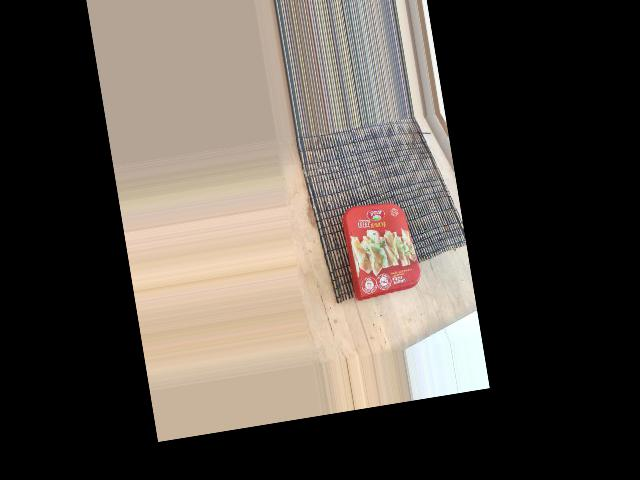cheese: (334, 193, 426, 319)
